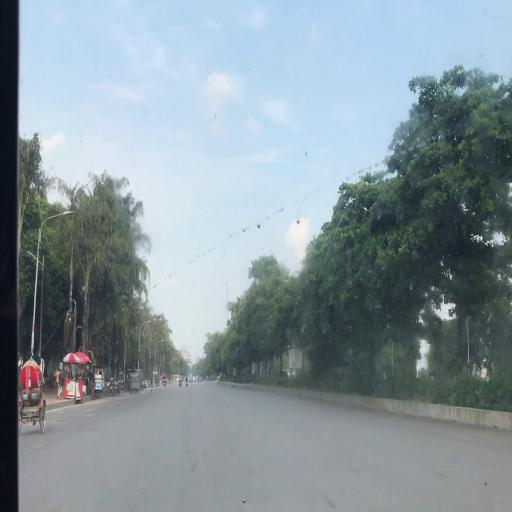rickshaw: (19, 358, 49, 437), (162, 373, 169, 390), (155, 374, 162, 390)
three wheelers (CNG): (130, 372, 141, 396)
